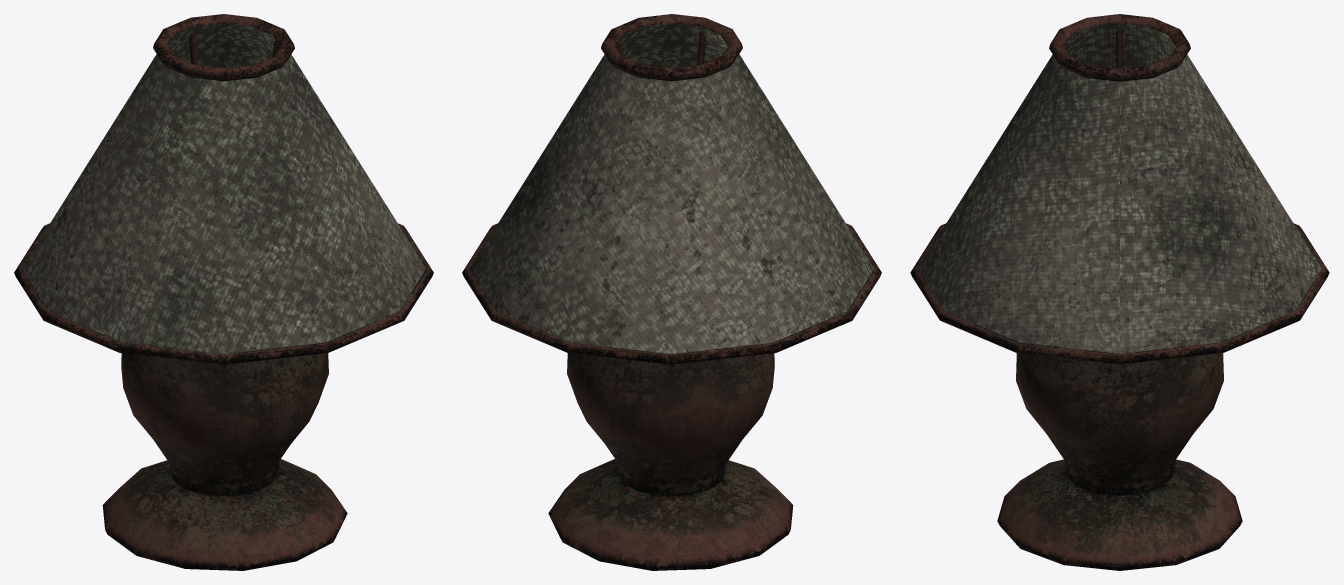
The model's file is NFG-I0003.glb.
3 views of the same model, side by side, from view 1: azimuth 30°, elevation 25°; view 2: azimuth 150°, elevation 25°; view 3: azimuth 270°, elevation 25° (orthographic).
Visible parts, largest first — view 1: Lamp.003; view 2: Lamp.003; view 3: Lamp.003.
Boxes of the visible parts, x1,y1,x2,y2 form: Lamp.003: (14,14,433,570); Lamp.003: (462,14,881,570); Lamp.003: (910,14,1329,570).
Size of the model in its own units: 1.59 by 2 by 1.59.
1 material, 1 textured.
